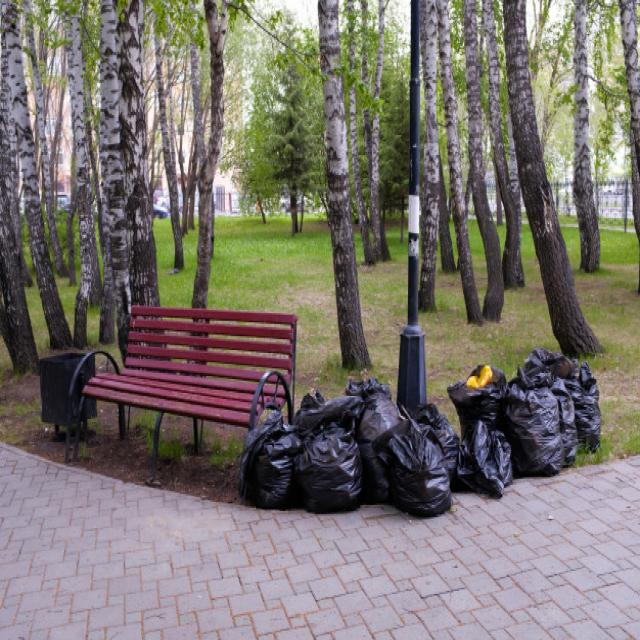plastic_bag: (511, 374, 573, 477), (381, 425, 444, 514), (245, 411, 299, 497), (300, 428, 359, 498), (545, 365, 599, 441), (456, 417, 506, 492), (351, 383, 399, 449), (455, 362, 505, 417)
